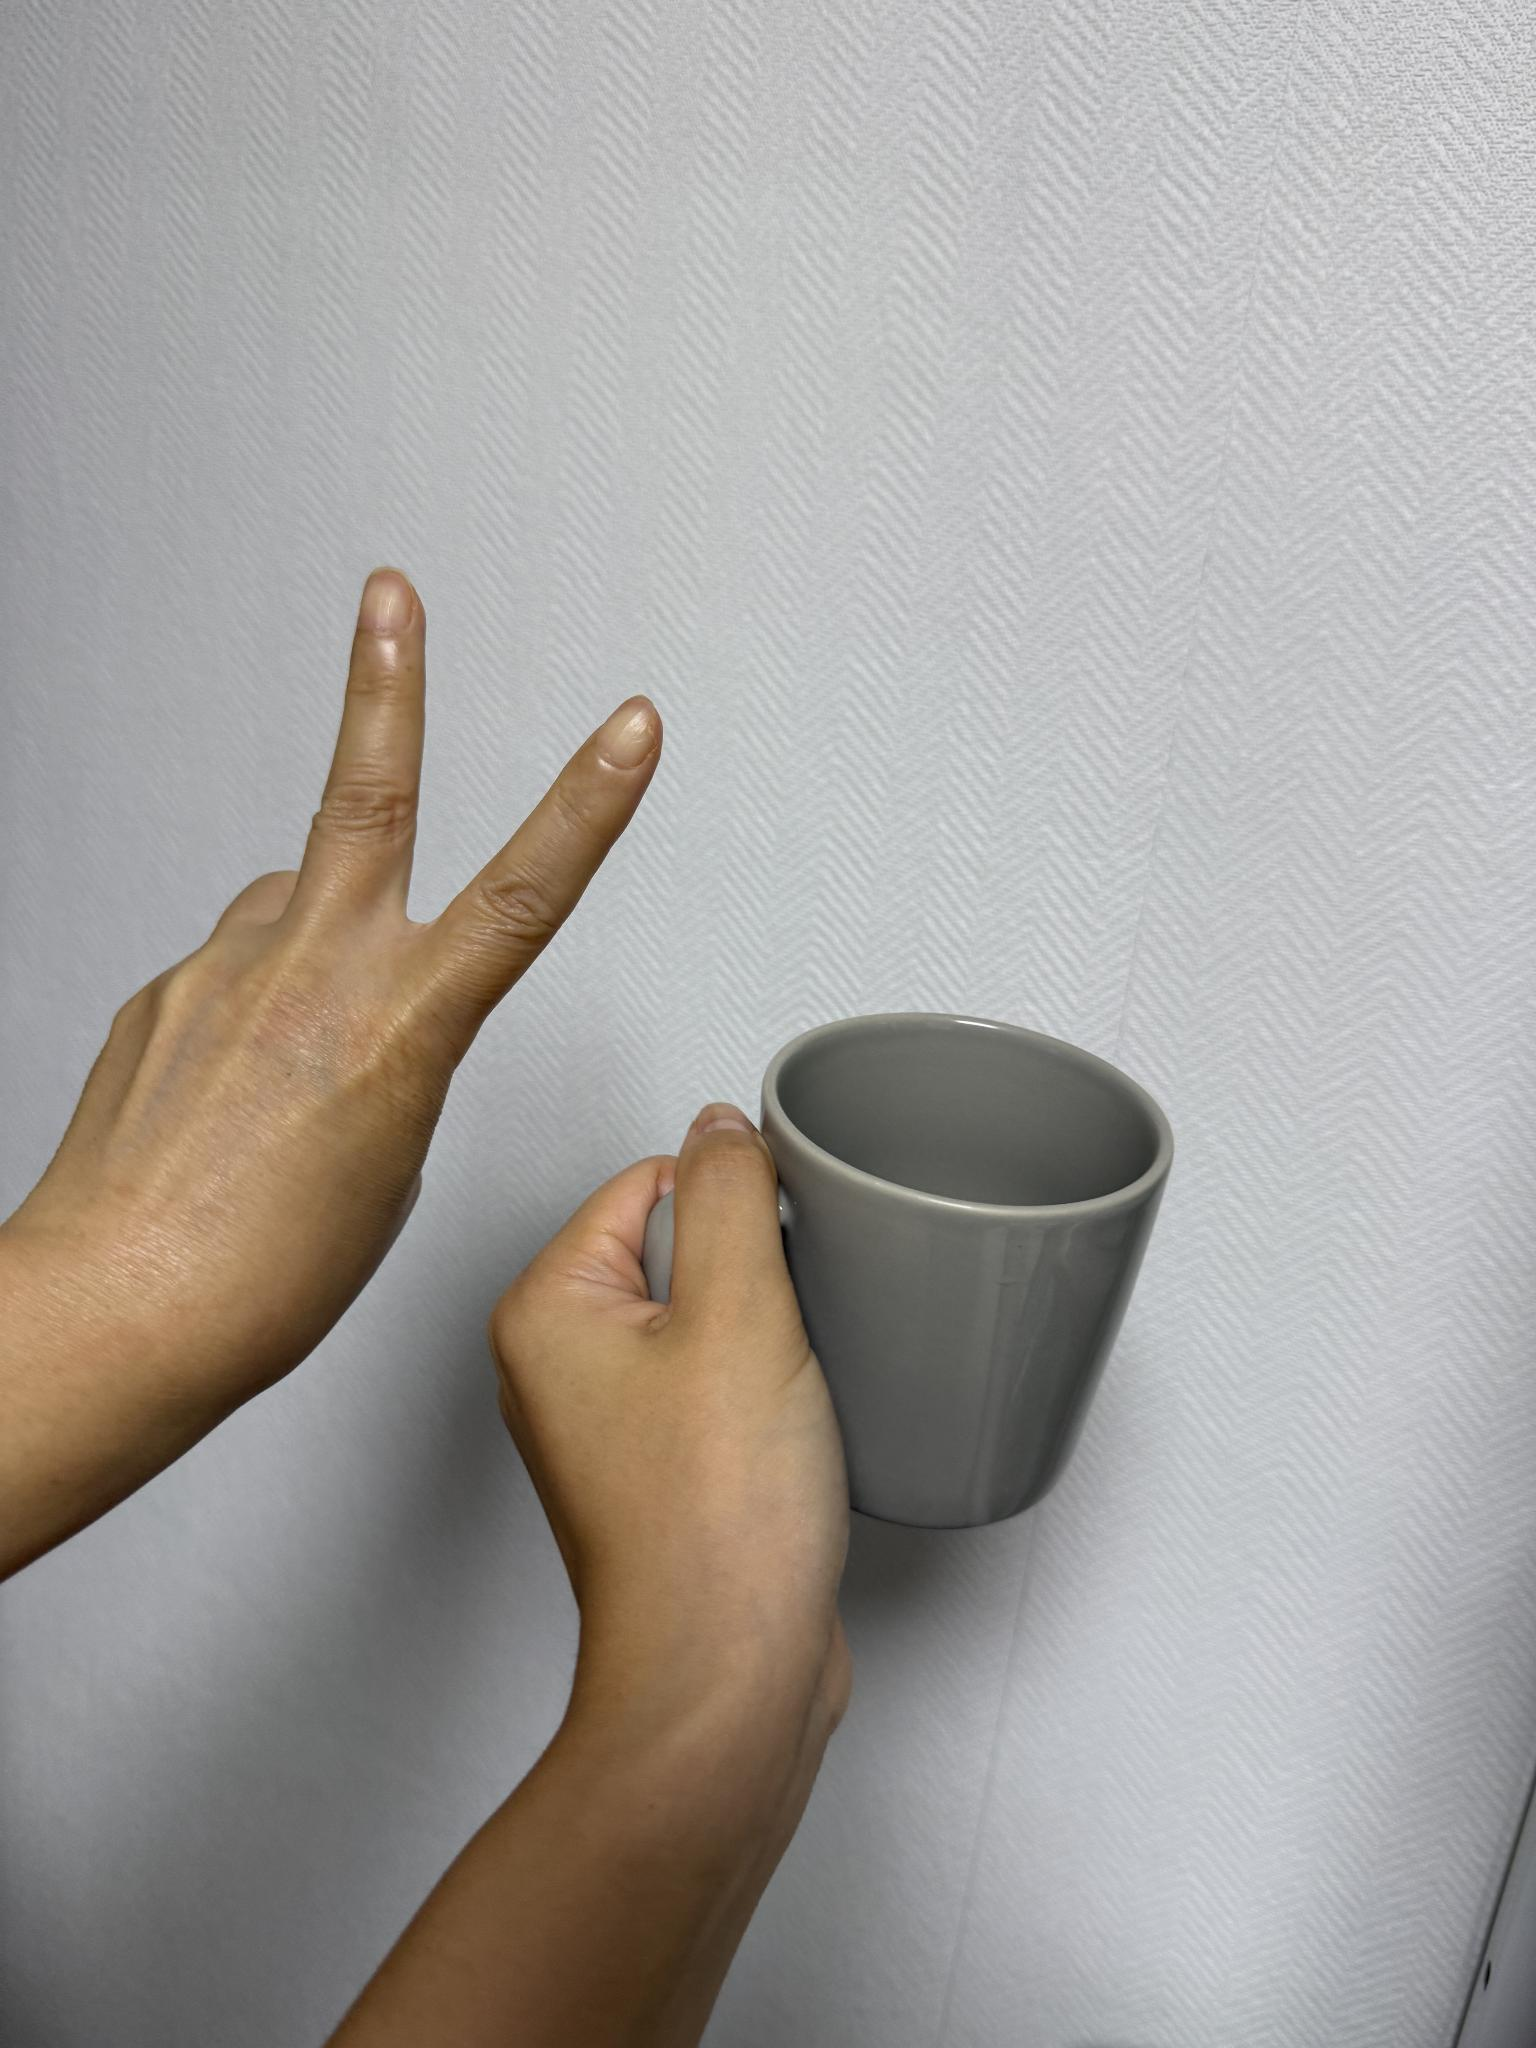cup: (487, 969, 1194, 1817)
v: (6, 574, 670, 1621)
